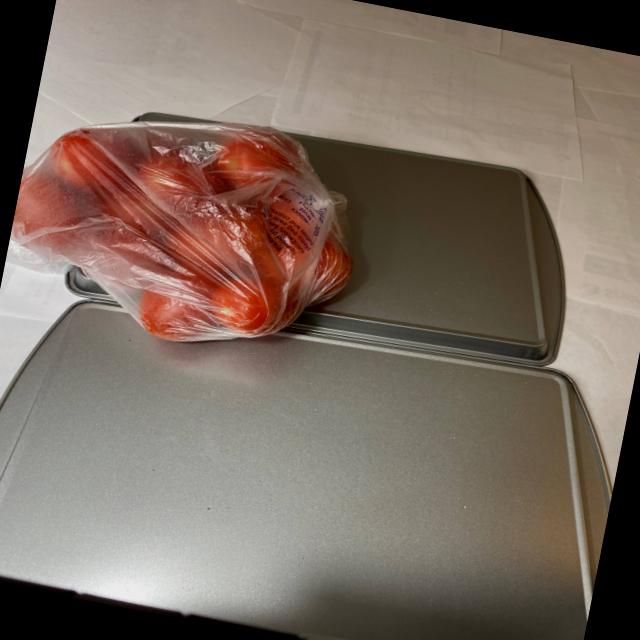tomato: (0, 85, 375, 366)
